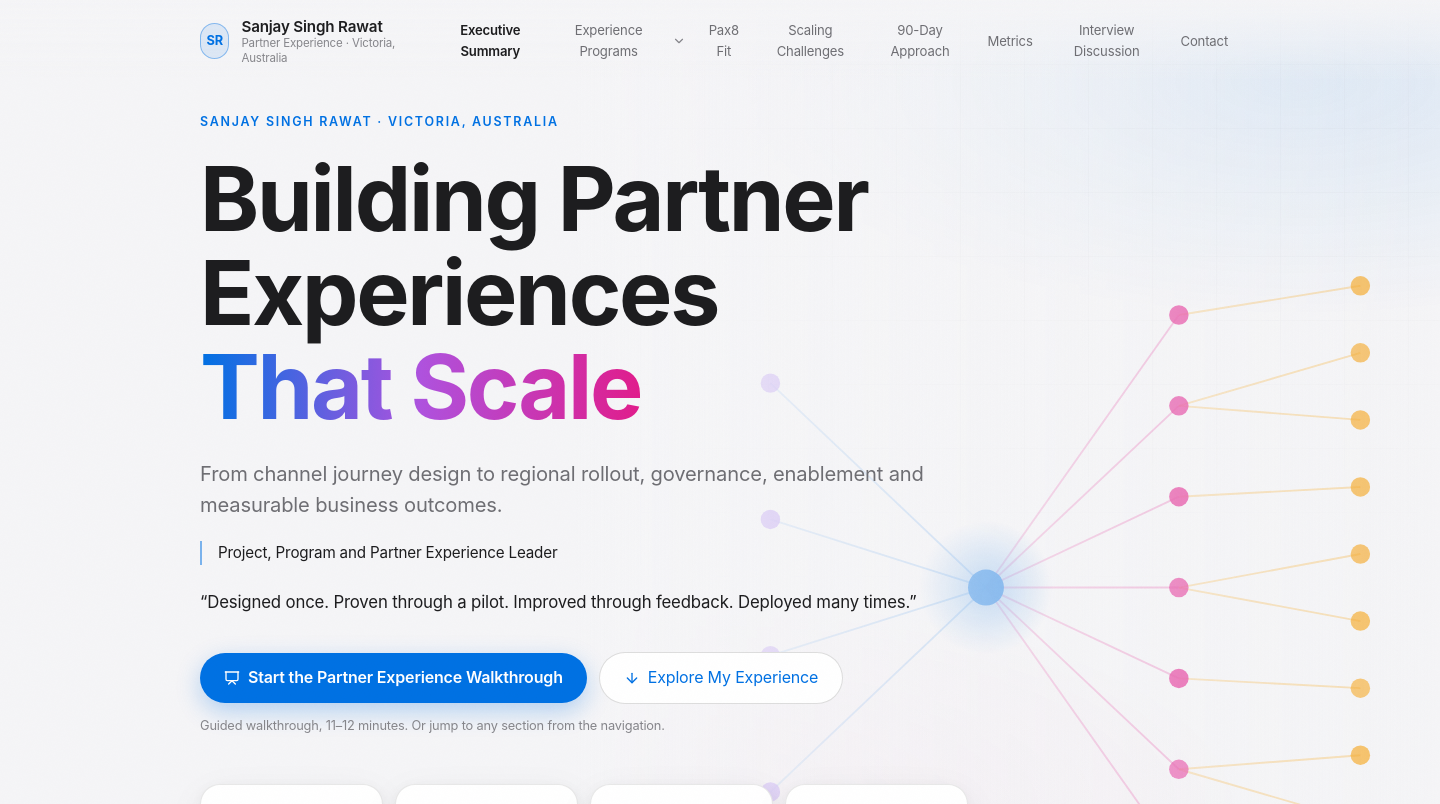
Test case: explore-freely navigation › reveals the case studies nested under Experience Programs
Click the button named "show experience programs case studies".
click(679, 41)  # box [666,28,692,54]
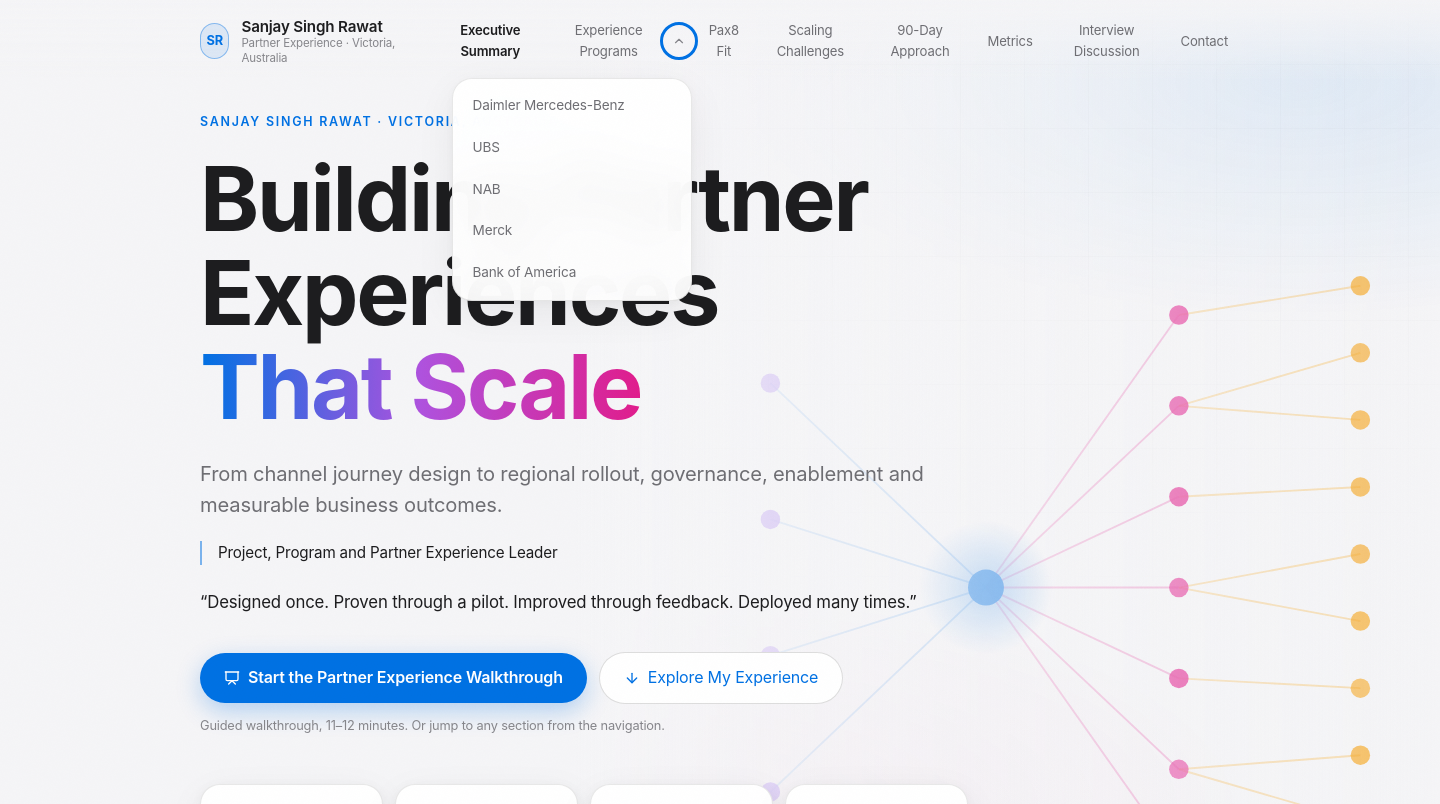
Check: the button named "hide experience programs case studies" is expanded, box [666,28,692,54]
Check: the button "Daimler Mercedes-Benz" is shown, box [461,87,683,125]
Check: the button "UBS" is shown, box [461,129,683,167]
